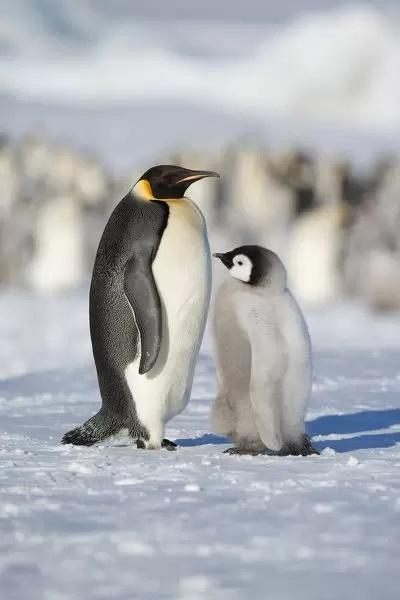emporer: (48, 142, 242, 455)
